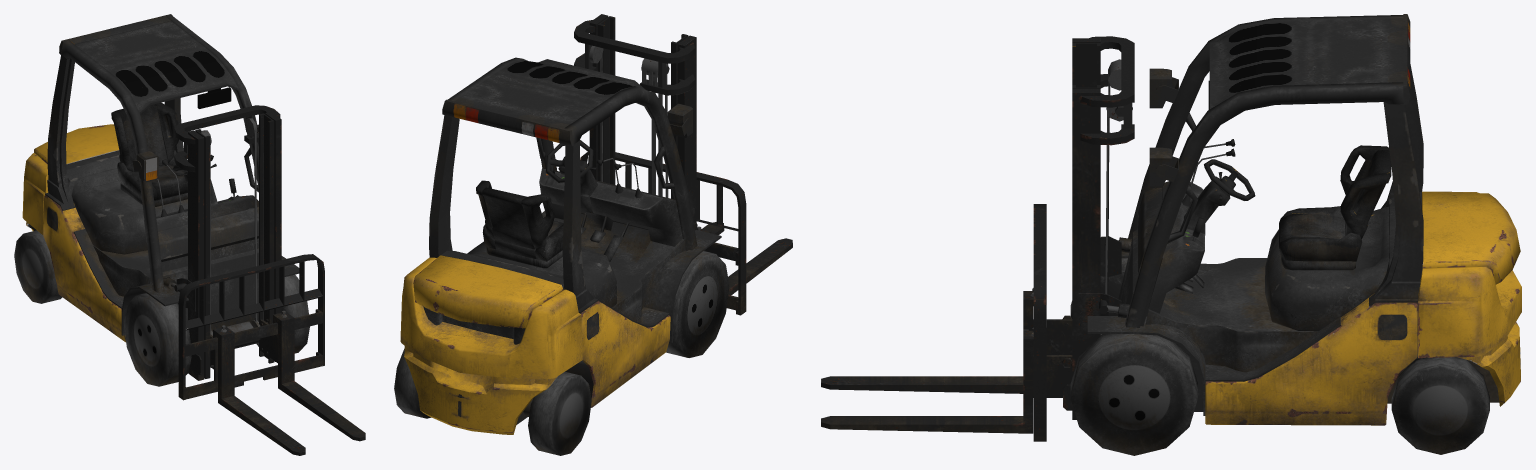
The model's file is fokrlift.glb.
The picture shows the model from 3 angles, left to right: view 1: azimuth 30°, elevation 25°; view 2: azimuth 150°, elevation 25°; view 3: azimuth 270°, elevation 25°; orthographic projection. The views are drawn at different scales.
Visible parts, largest first — view 1: Loader_car, Fourche, Mat, RoueAvantDroite, RoueArriereDroit, RoueAvantGauche, Retro; view 2: Loader_car, Mat, RoueAvantDroite, Fourche, RoueArriereDroit, RoueArriereGauche, Volant; view 3: Loader_car, Mat, Fourche, RoueAvantGauche, RoueArriereGauche, Volant.
Boxes of the visible parts, x1=… form: Loader_car: x1=22, y1=14, x2=299, y2=374; Fourche: x1=178, y1=254, x2=365, y2=455; Mat: x1=174, y1=105, x2=281, y2=380; RoueAvantDroite: x1=123, y1=293, x2=191, y2=386; RoueArriereDroit: x1=14, y1=230, x2=62, y2=303; RoueAvantGauche: x1=256, y1=274, x2=309, y2=353; Retro: x1=197, y1=87, x2=231, y2=108; Loader_car: x1=400, y1=57, x2=721, y2=434; Mat: x1=574, y1=14, x2=696, y2=229; RoueAvantDroite: x1=666, y1=251, x2=729, y2=357; Fourche: x1=580, y1=152, x2=792, y2=315; RoueArriereDroit: x1=528, y1=371, x2=591, y2=455; RoueArriereGauche: x1=394, y1=348, x2=431, y2=418; Volant: x1=545, y1=140, x2=593, y2=182; Loader_car: x1=1062, y1=14, x2=1521, y2=425; Mat: x1=1072, y1=36, x2=1134, y2=419; Fourche: x1=821, y1=204, x2=1072, y2=441; RoueAvantGauche: x1=1070, y1=334, x2=1197, y2=455; RoueArriereGauche: x1=1391, y1=357, x2=1489, y2=454; Volant: x1=1204, y1=159, x2=1255, y2=200.
Size of the model in its own units: 1.18 by 2.12 by 3.72.
Materials: 3 (1 with a texture image).
